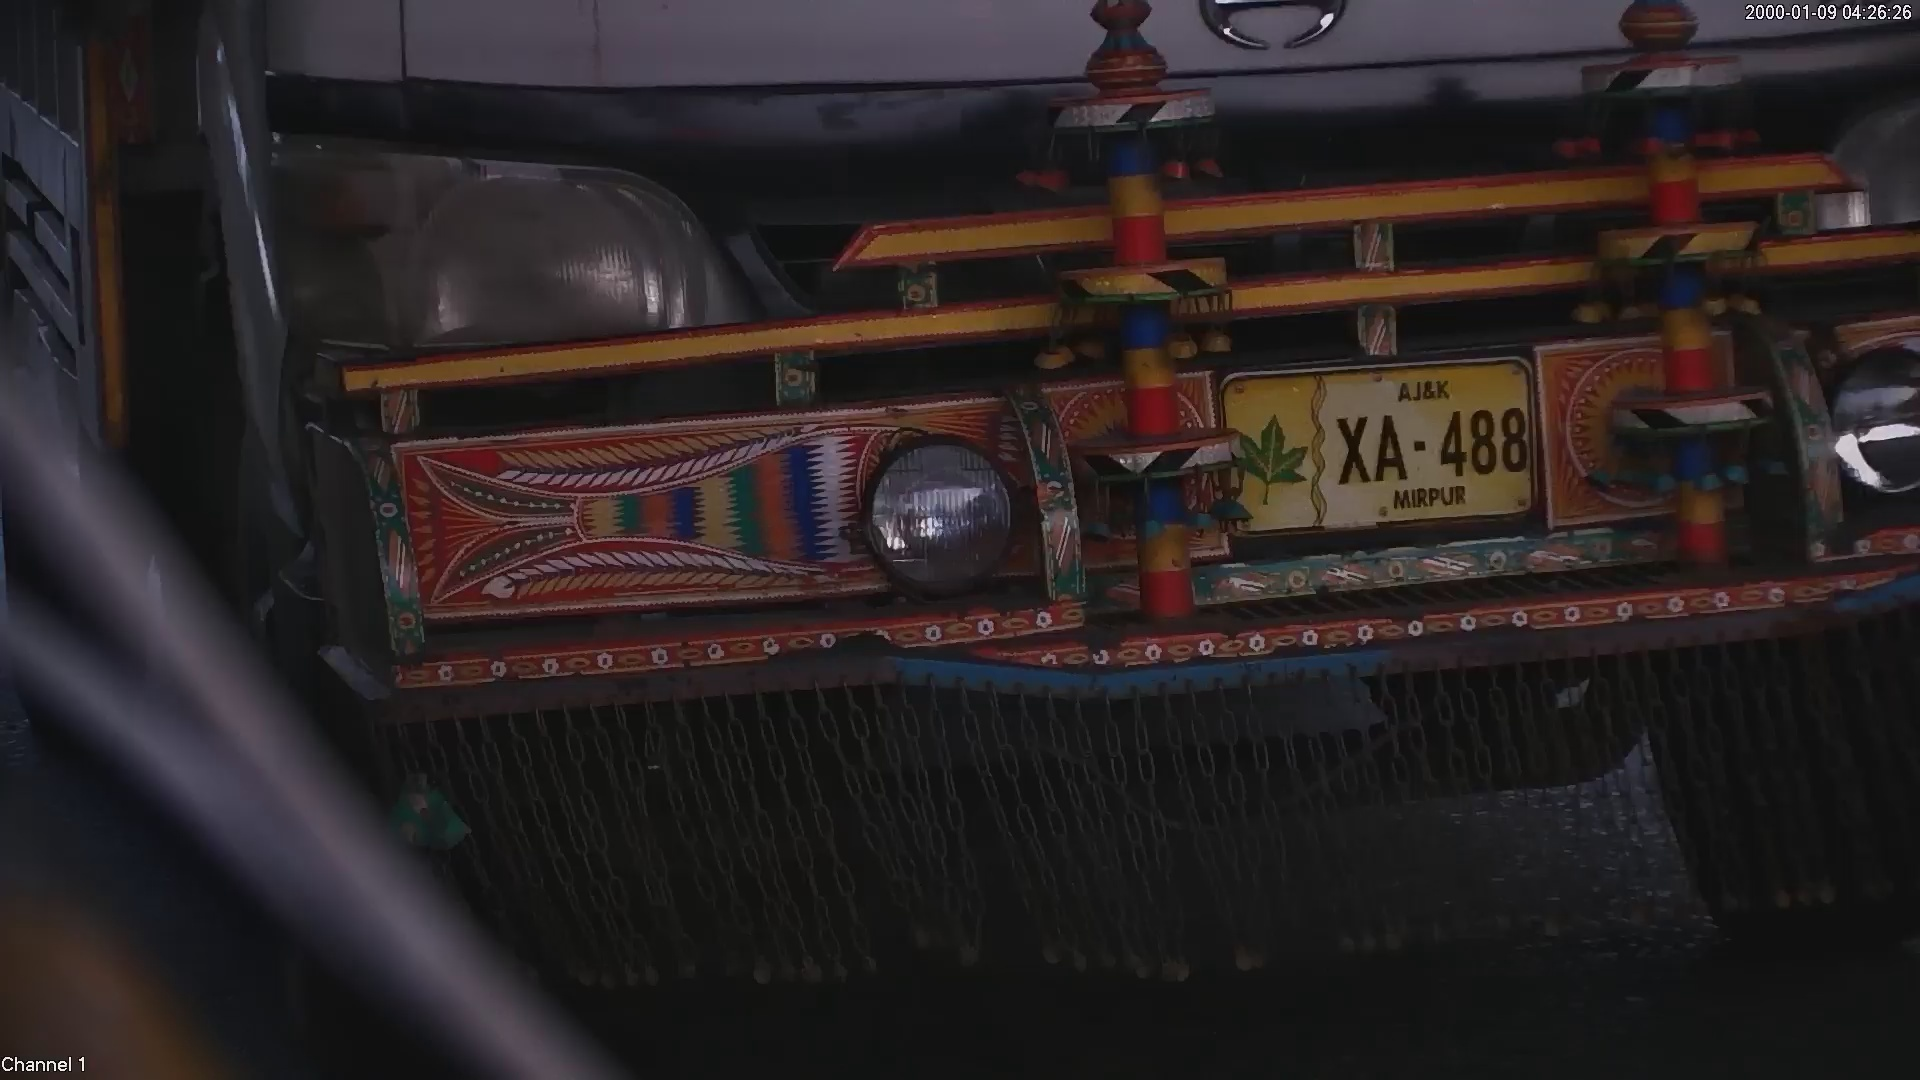Number_Plate: (1195, 342, 1556, 546)
